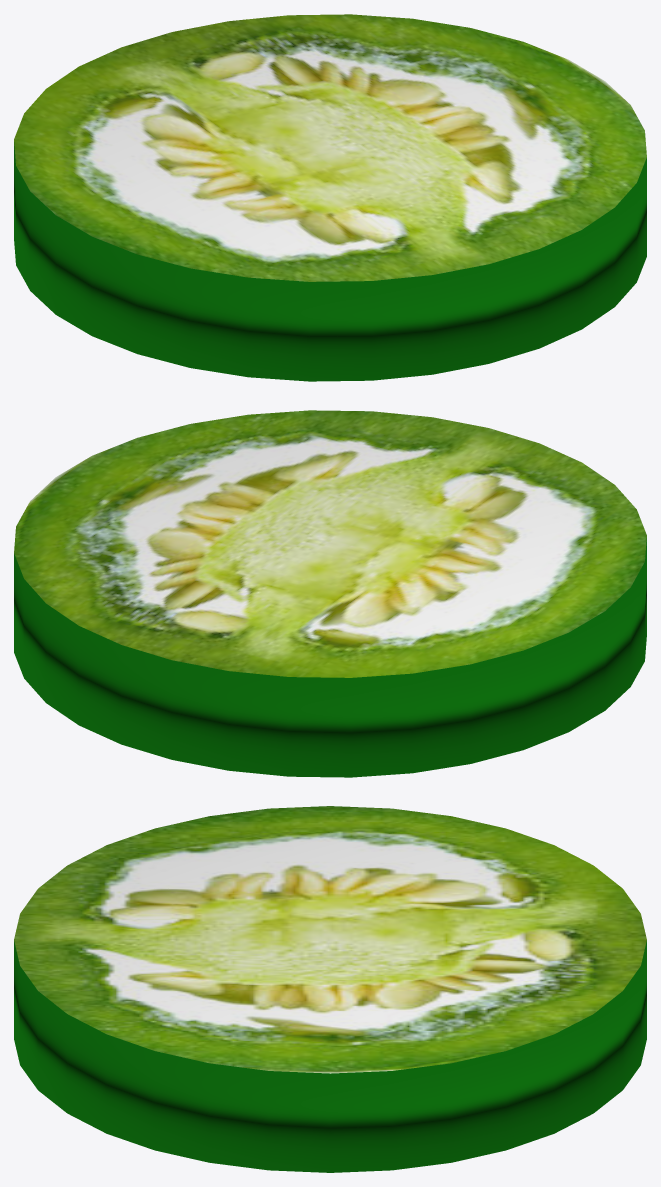
The model's file is jalapeno_3d_model.glb.
3 views of the same model, one above another, from view 1: azimuth 30°, elevation 25°; view 2: azimuth 150°, elevation 25°; view 3: azimuth 270°, elevation 25° (orthographic).
Visible parts, largest first — view 1: Cylinder; view 2: Cylinder; view 3: Cylinder.
Part boxes in pixels (x1,y1,x2,y2): Cylinder: (14, 14, 646, 381); Cylinder: (14, 410, 646, 777); Cylinder: (14, 806, 646, 1172).
Bounding box in the file's own units: 1.74 × 0.3018 × 1.74.
Materials: 2 (1 with a texture image).
